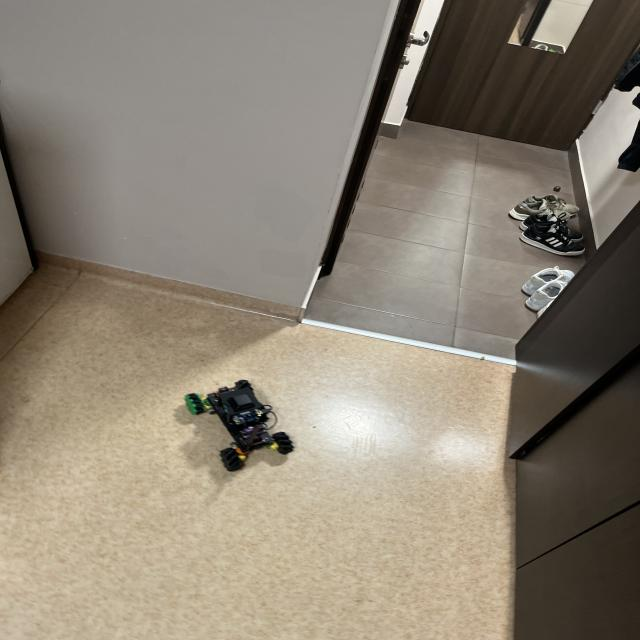robot: (184, 380, 294, 471)
